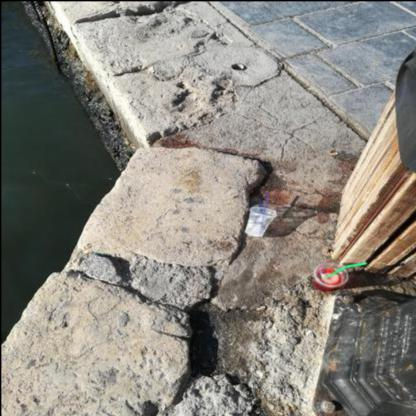Cigarette: (328, 152, 338, 154), (309, 50, 315, 53), (330, 250, 332, 257)
Cup: (312, 261, 348, 291), (245, 202, 276, 236)
Lid: (311, 261, 347, 287), (248, 202, 276, 214)
Straw: (324, 261, 366, 277), (260, 191, 268, 231)
